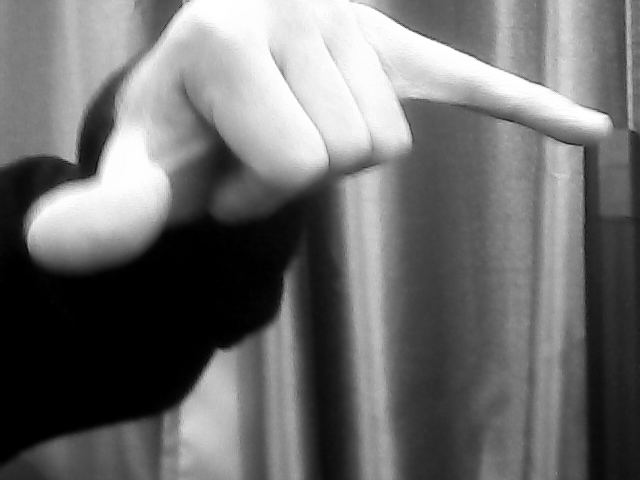aloha: (21, 1, 612, 277)
